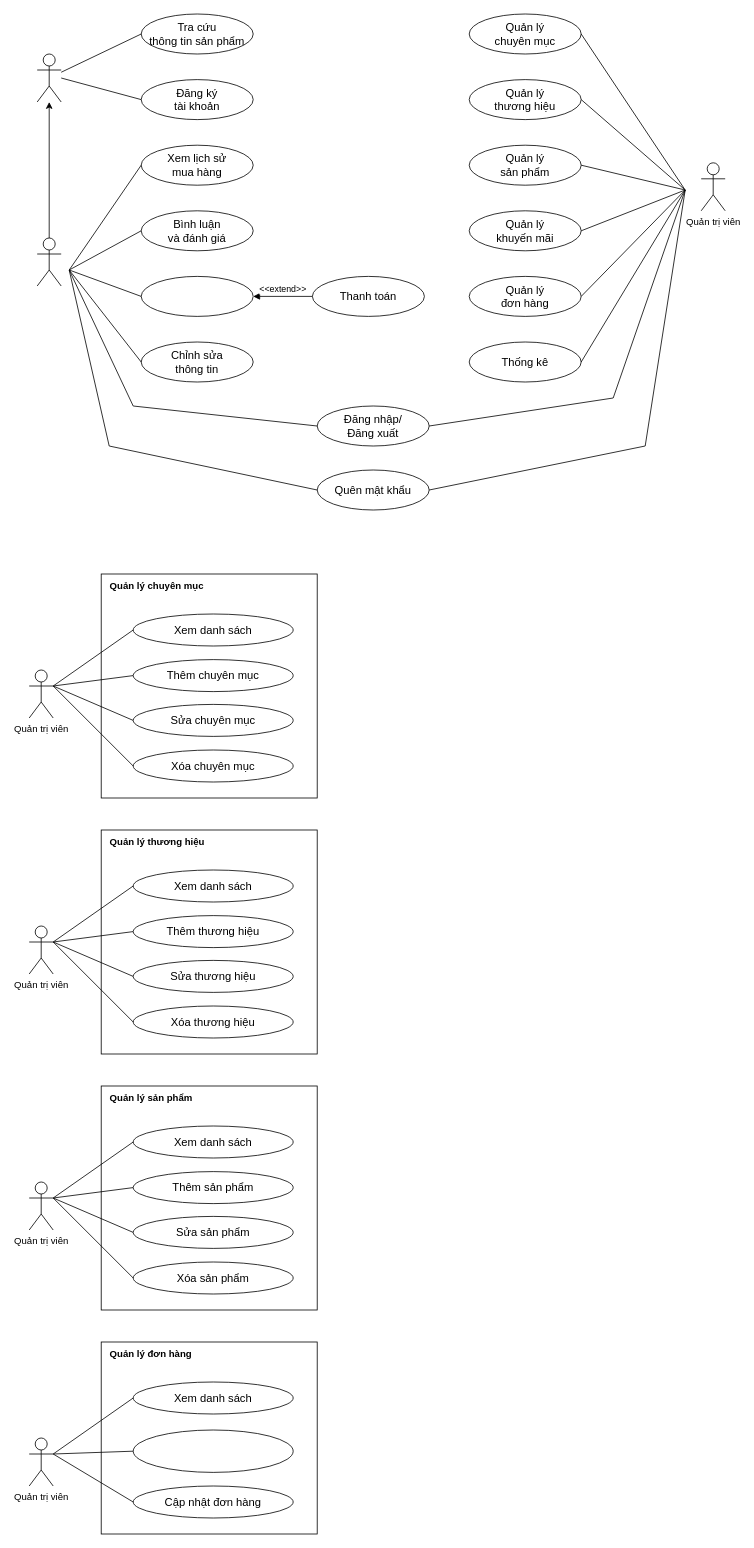
This 754x1548 diagram has some shape labels left out. The shapes that lost their labels are listed below. From the top down, each one's centre as x and y in pixels, then its label:
the point at 48,77: Guest
the point at 48,261: Khách hàng
the point at 196,296: Thêm vào giỏ hàng
the point at 212,1450: Thêm đơn hàng (khi khách mua offline)
